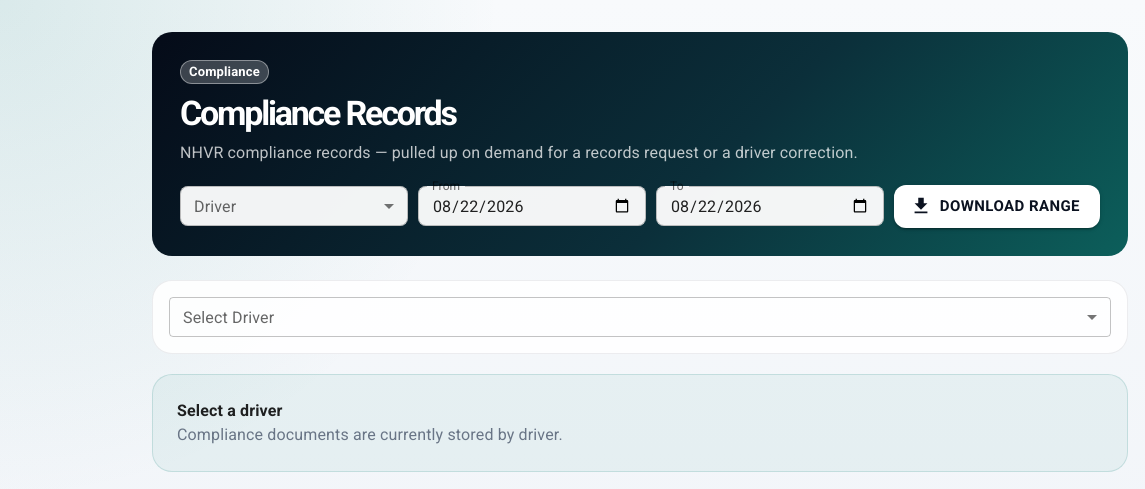
it: admin WorkDiary — driver history section › PASS: the driver dropdown shows the driver's name only, not name + email
Expected: the text "Select a driver" is shown, [177, 400, 282, 420]
Click the dropdown named "Select Driver" next to "Select Driver" at coordinates (640, 316), box [169, 296, 1111, 336]
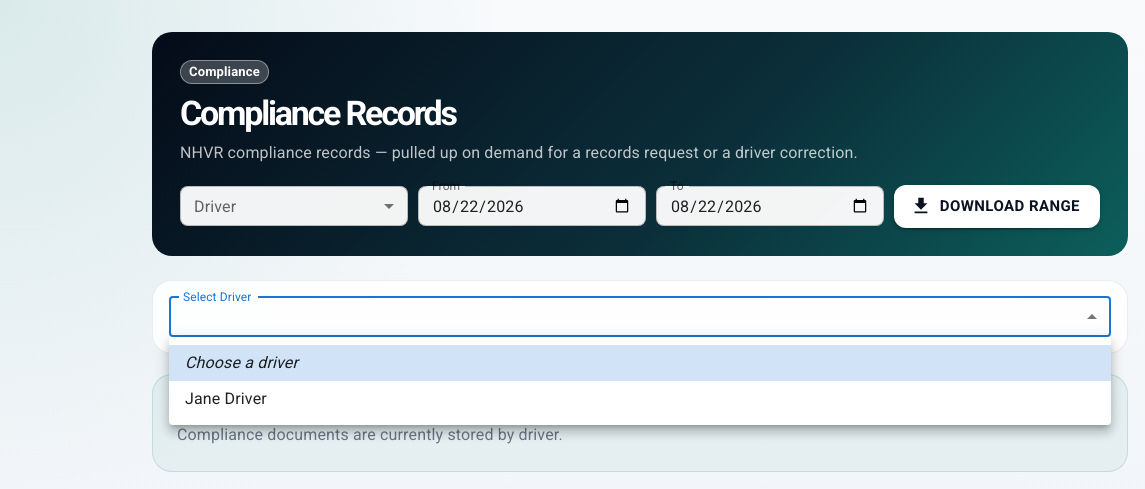
Expected: the option "Jane Driver" is shown, [185, 389, 267, 408]
